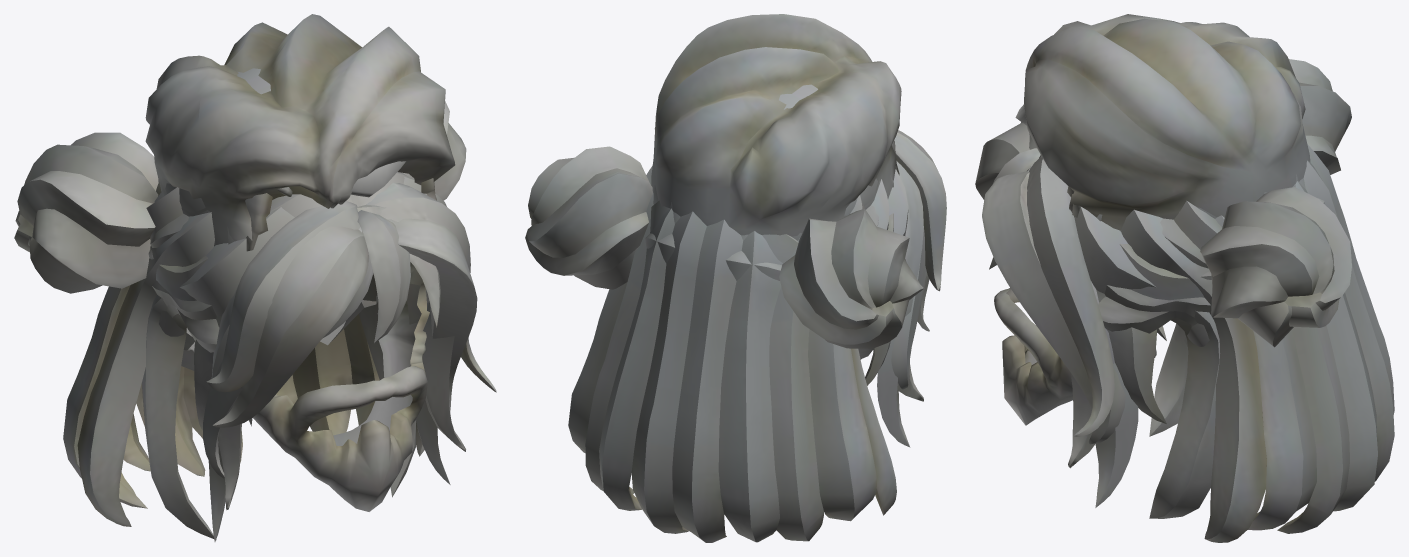
Rendered from hair.glb.
3 renders of one model, left to right at view 1: azimuth 30°, elevation 25°; view 2: azimuth 150°, elevation 25°; view 3: azimuth 270°, elevation 25°, orthographic. The views are drawn at different scales.
Visible parts, largest first — view 1: Hair_Long, Hair_SimpleParted, Hair_Buns, Hair_Beard, Hair_Buzzed; view 2: Hair_Long, Hair_SimpleParted, Hair_Buns, Hair_Buzzed; view 3: Hair_Long, Hair_SimpleParted, Hair_Buns, Hair_Beard.
Boxes of the visible parts, bbox=[...] form: Hair_Long: bbox=[63, 172, 496, 539]; Hair_SimpleParted: bbox=[145, 14, 455, 244]; Hair_Buns: bbox=[14, 101, 466, 541]; Hair_Beard: bbox=[253, 262, 429, 511]; Hair_Buzzed: bbox=[161, 68, 436, 251]; Hair_Long: bbox=[568, 130, 946, 542]; Hair_SimpleParted: bbox=[651, 14, 901, 236]; Hair_Buns: bbox=[525, 146, 923, 447]; Hair_Buzzed: bbox=[653, 84, 899, 240]; Hair_Long: bbox=[975, 122, 1394, 542]; Hair_SimpleParted: bbox=[1024, 14, 1310, 230]; Hair_Buns: bbox=[989, 59, 1351, 507]; Hair_Beard: bbox=[994, 288, 1156, 425].
Bounding box in the file's own units: 0.3015 × 0.3389 × 0.2704.
5 materials, 5 textured.
